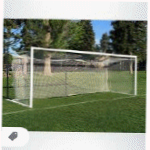goals: (7, 46, 139, 111)
